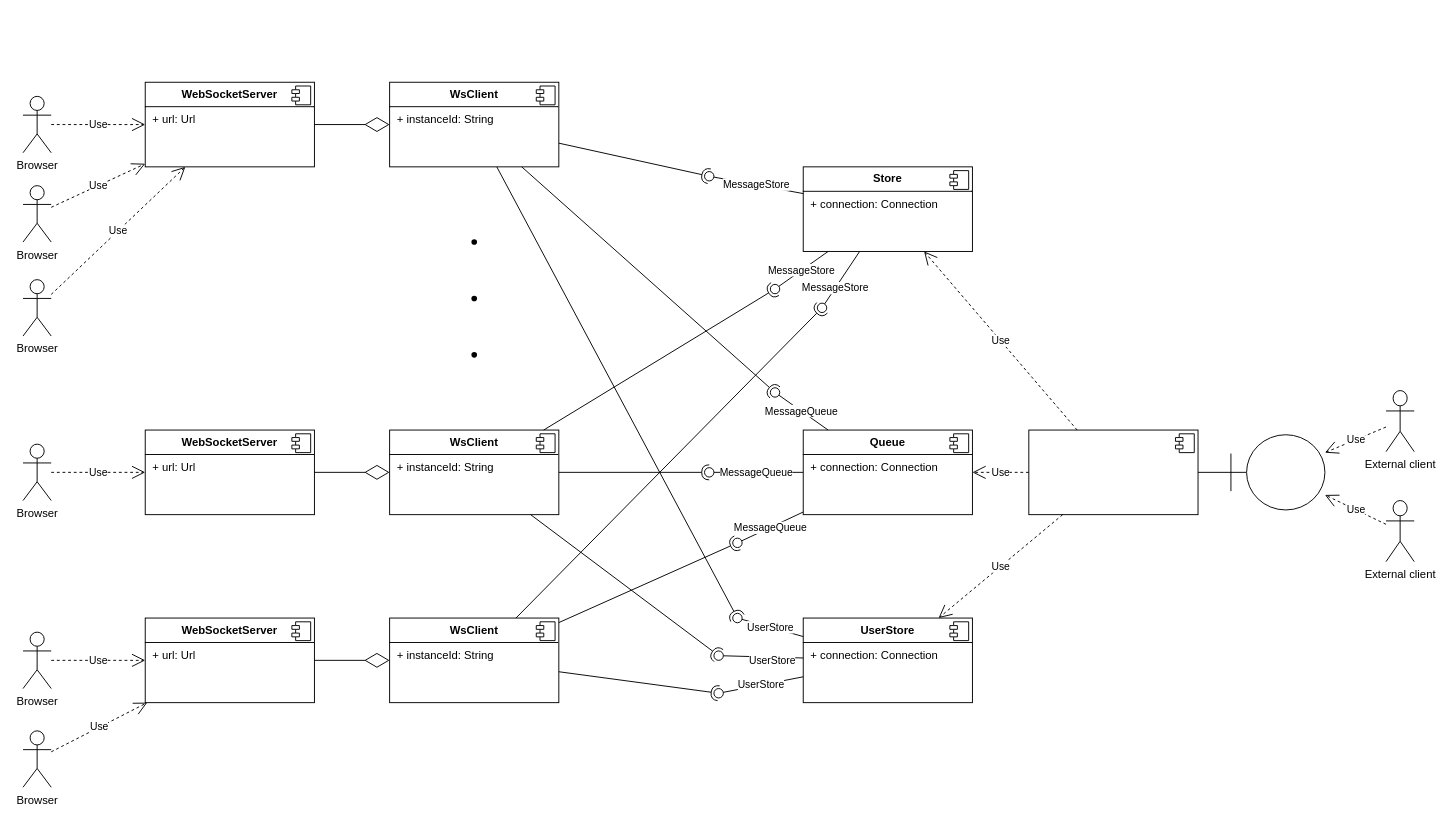
Some shapes in this 1451 by 823 pixel diagram are drawn without their labels. Each missing label, with the centre of its shape:
External service - store: Store - queue: Queue - userStore: UserStore: point (1113, 472)
REST API: point (1277, 472)
